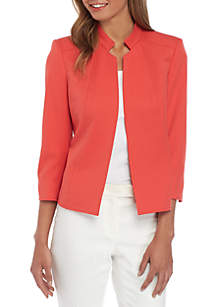F_W_suit jacket: (47, 30, 193, 204)
